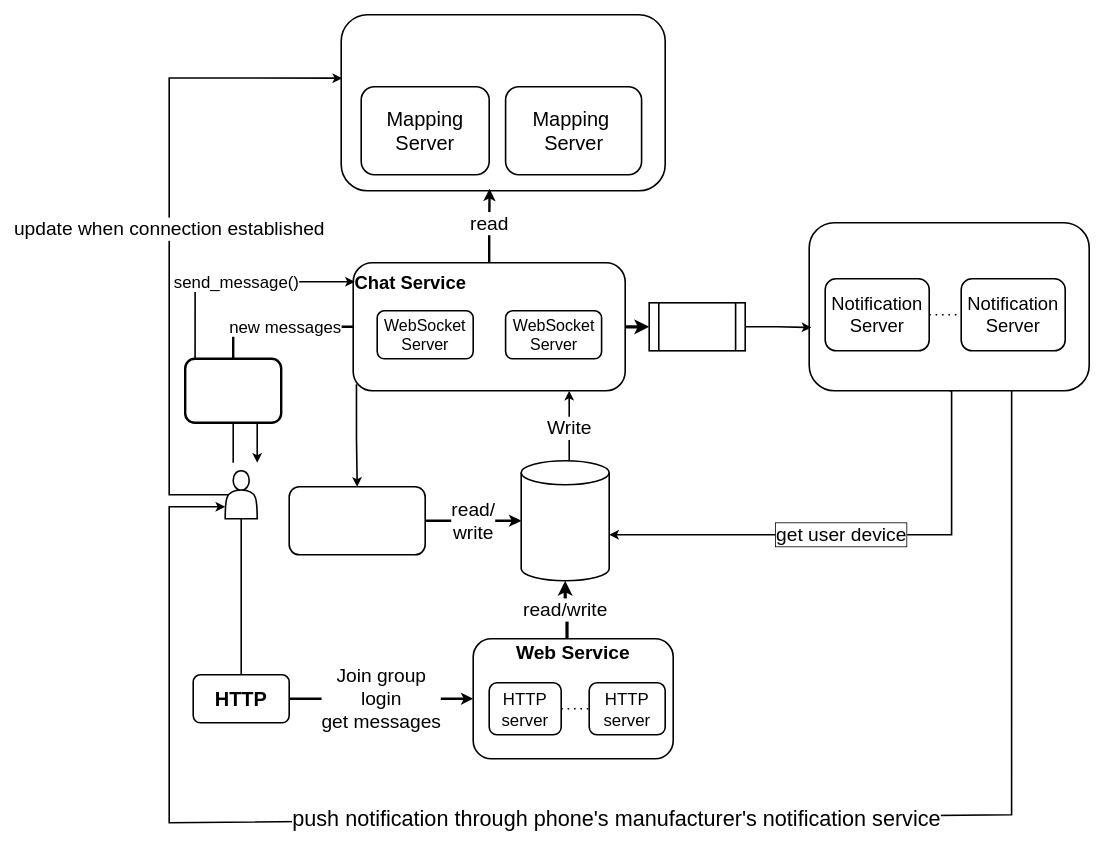
Image size: 1103x845. Some labels were removed from this diagram. Each missing label, with the box of its shape:
Database: (520, 460, 610, 581)
Notification Service: (808, 222, 1090, 391)
Queue: (648, 302, 746, 351)
Translation Service: (288, 486, 426, 555)
User Mapping Service: (340, 14, 666, 191)
WebSocket: (184, 357, 282, 424)
